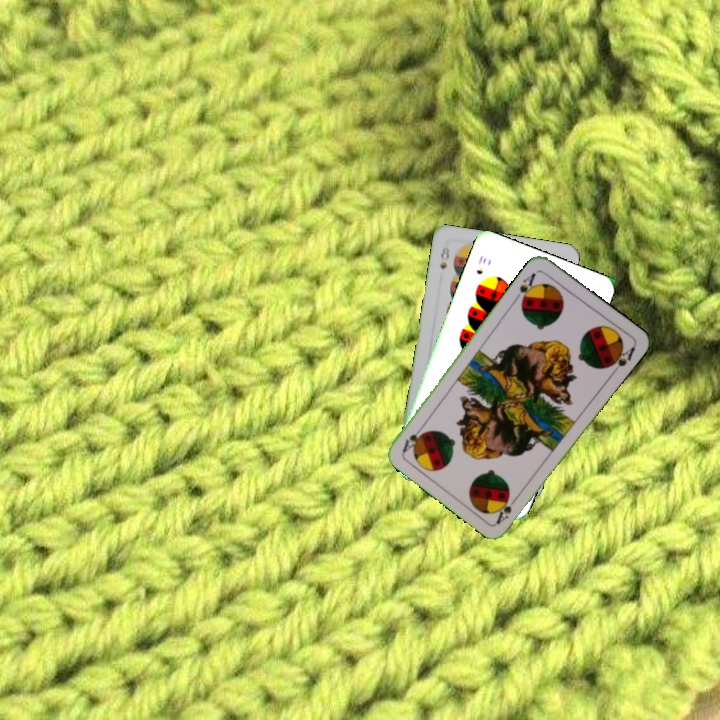S10: (472, 251, 489, 277)
S8: (436, 242, 452, 272)
SA: (492, 491, 521, 527), (511, 269, 539, 306)
